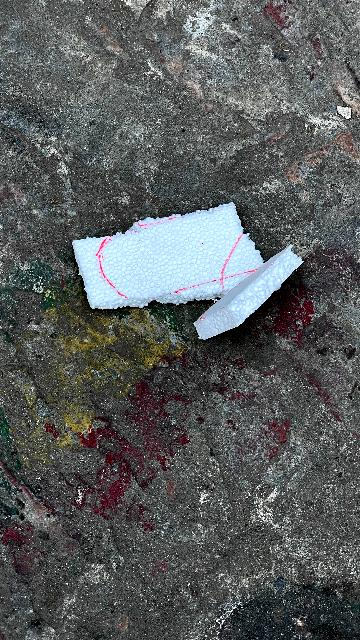cocksheet: (70, 196, 312, 355)
